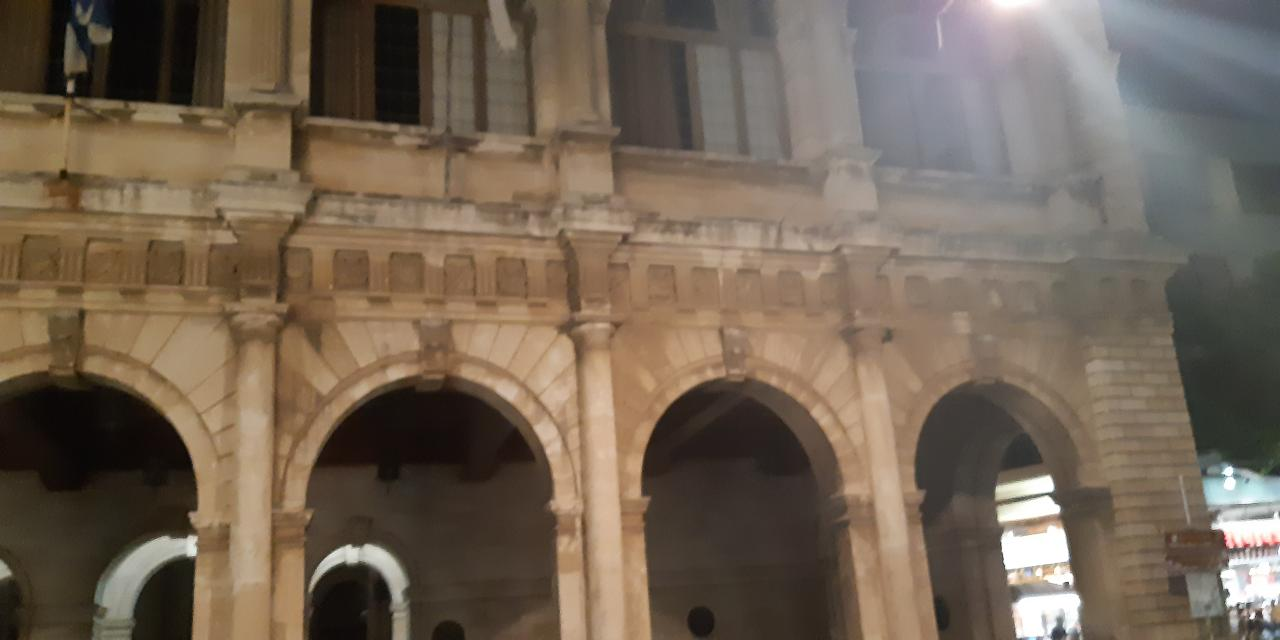Loggia: (1, 1, 1238, 640)
